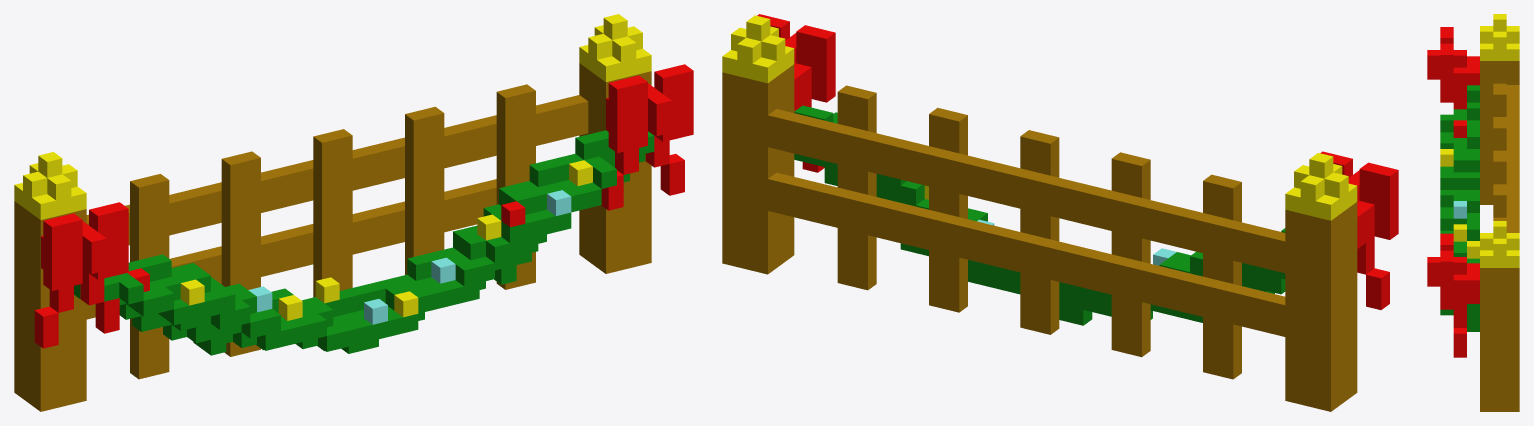
The model's file is Fence.fbx.
The picture shows the model from 3 angles, left to right: view 1: azimuth 30°, elevation 25°; view 2: azimuth 150°, elevation 25°; view 3: azimuth 270°, elevation 25°; orthographic projection. The views are drawn at different scales.
Parts seen in each view (by area): view 1: ObjObject.003, ObjObject.004; view 2: ObjObject.003, ObjObject.004; view 3: ObjObject.003, ObjObject.004.
Boxes of the visible parts, x1,y1,x2,y2 form: ObjObject.003: (14,14,651,411); ObjObject.004: (34,64,693,355); ObjObject.003: (722,15,1357,411); ObjObject.004: (757,14,1398,325); ObjObject.003: (1480,14,1519,411); ObjObject.004: (1427,27,1479,357).
Size of the model in its own units: 420 by 150 by 70.
